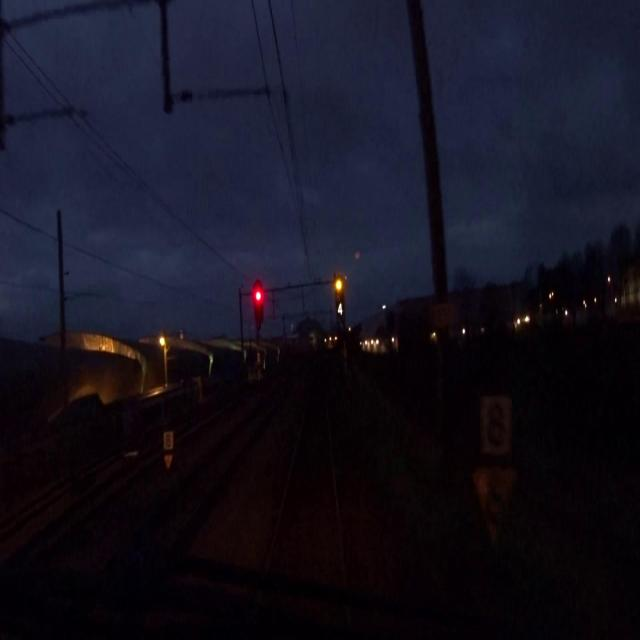rail-track: (148, 371, 297, 543), (14, 453, 158, 562), (269, 377, 342, 582)
